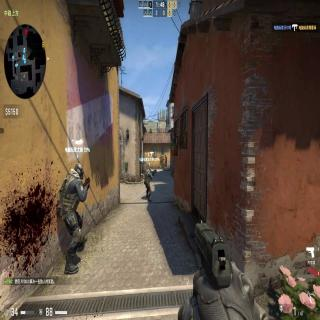CT-Body: (56, 163, 90, 274), (144, 167, 152, 202)
CT-Head: (75, 163, 84, 180), (148, 168, 151, 172)
T-Body: (165, 154, 168, 167)
